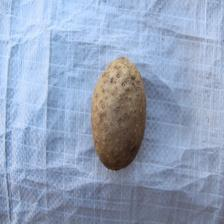Diseased-fungal potato: (92, 54, 148, 174)
